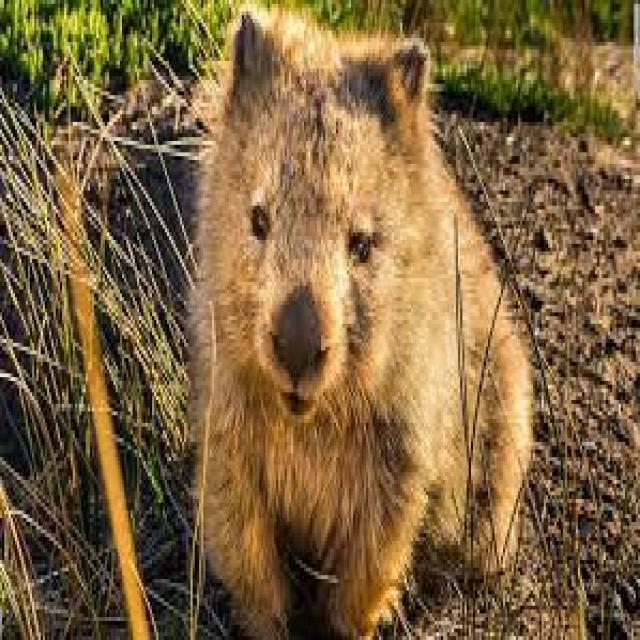Wombat: (175, 6, 533, 632)
